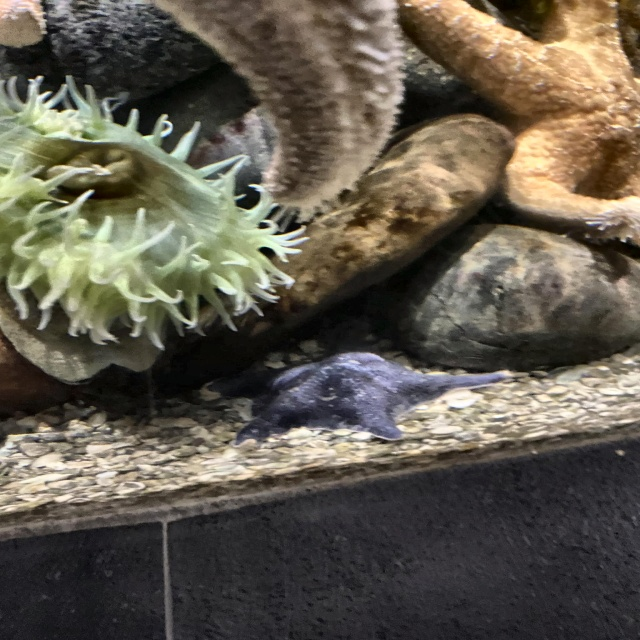starfish: (207, 353, 509, 442)
